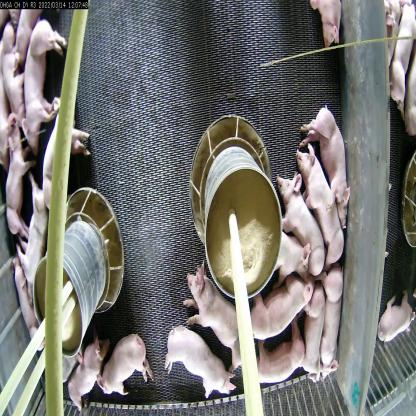Pig: (179, 256, 242, 364), (36, 99, 94, 216), (164, 324, 236, 415), (297, 138, 347, 267), (301, 99, 350, 229), (22, 24, 74, 144), (278, 172, 323, 275), (245, 330, 308, 400), (97, 323, 151, 403), (3, 122, 37, 246), (252, 271, 312, 339), (16, 181, 50, 281), (295, 276, 324, 376), (70, 336, 105, 411), (323, 264, 343, 381)
